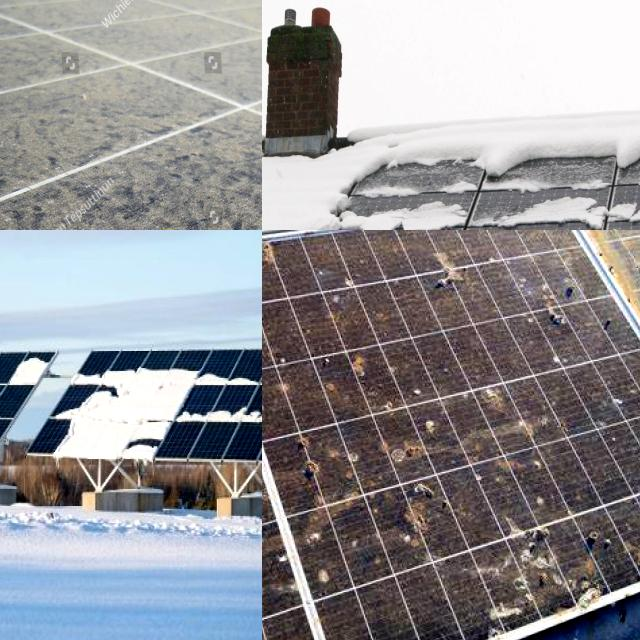bird: (482, 379, 580, 483), (262, 269, 326, 428), (502, 504, 608, 596), (282, 412, 377, 503), (383, 353, 471, 448), (301, 526, 371, 640), (538, 272, 627, 356), (262, 321, 346, 403), (462, 603, 640, 640), (287, 230, 441, 272), (393, 462, 481, 528), (419, 251, 486, 319), (262, 534, 312, 616), (262, 230, 327, 279), (262, 465, 302, 529), (587, 230, 640, 265), (262, 230, 299, 265), (140, 205, 189, 230)
panel: (342, 126, 460, 192), (466, 103, 582, 166), (506, 168, 640, 218), (364, 190, 493, 230), (54, 411, 166, 455), (71, 366, 187, 408), (277, 194, 364, 230), (4, 348, 56, 401), (592, 103, 640, 157), (186, 402, 262, 432), (198, 360, 262, 393), (0, 359, 39, 394), (0, 440, 34, 471), (0, 401, 36, 426), (0, 432, 24, 469), (0, 399, 25, 426)
